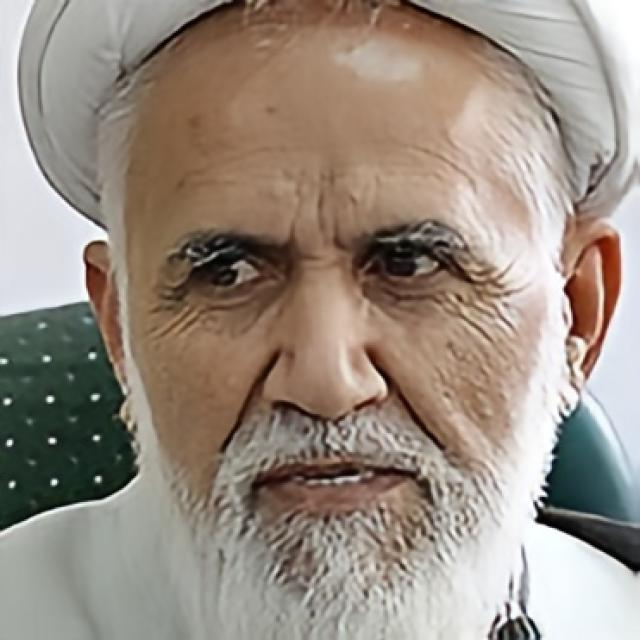anger: (128, 74, 550, 625)
